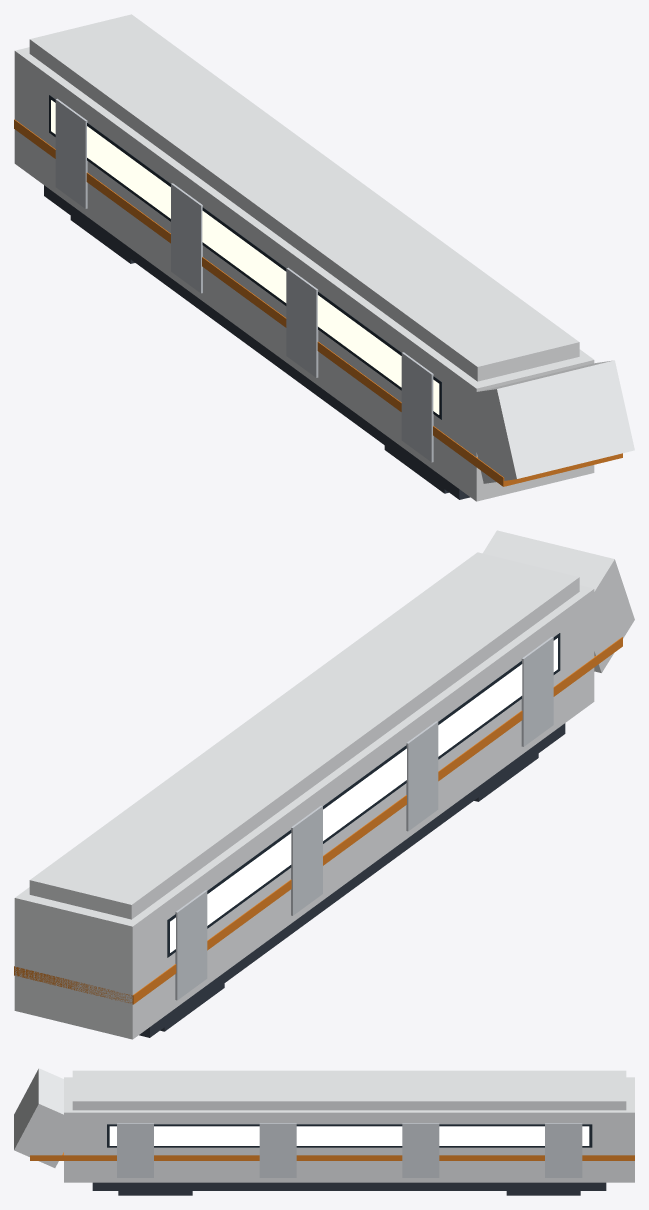
File: metro_car_cab.glb
3 renders of one model, top to bottom at view 1: azimuth 30°, elevation 25°; view 2: azimuth 150°, elevation 25°; view 3: azimuth 270°, elevation 25°, orthographic. The views are drawn at different scales.
Parts seen in each view (by area): view 1: car; view 2: car; view 3: car.
Boxes of the visible parts, left/top/right/bottom form: car: left=14, top=14, right=634, bottom=501; car: left=14, top=530, right=634, bottom=1039; car: left=14, top=1068, right=634, bottom=1195.
Bounding box in the file's own units: 3.05 × 3.7 × 21.76.
